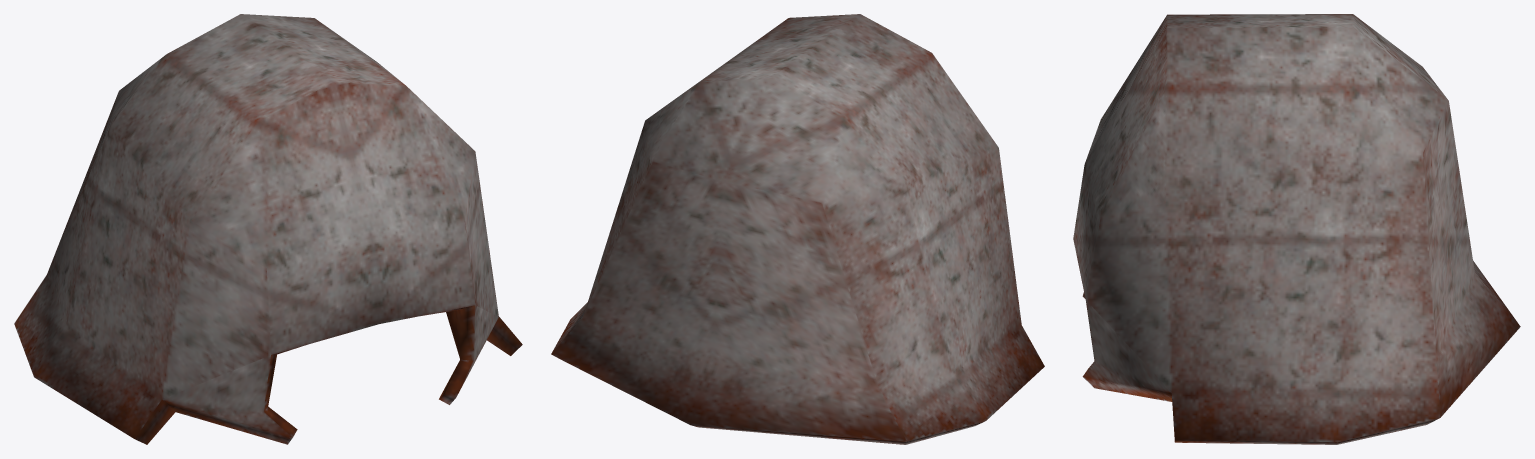
Rendered from medium_helmet.glb.
The picture shows the model from 3 angles, left to right: view 1: azimuth 30°, elevation 25°; view 2: azimuth 150°, elevation 25°; view 3: azimuth 270°, elevation 25°; orthographic projection. The views are drawn at different scales.
Parts seen in each view (by area): view 1: helmet green; view 2: helmet green; view 3: helmet green.
Boxes of the visible parts, <box> form: helmet green: <box>14,14,522,444</box>; helmet green: <box>551,14,1044,444</box>; helmet green: <box>1073,14,1520,444</box>.
Bounding box in the file's own units: 0.293 × 0.2105 × 0.2627.
1 material, 1 textured.
